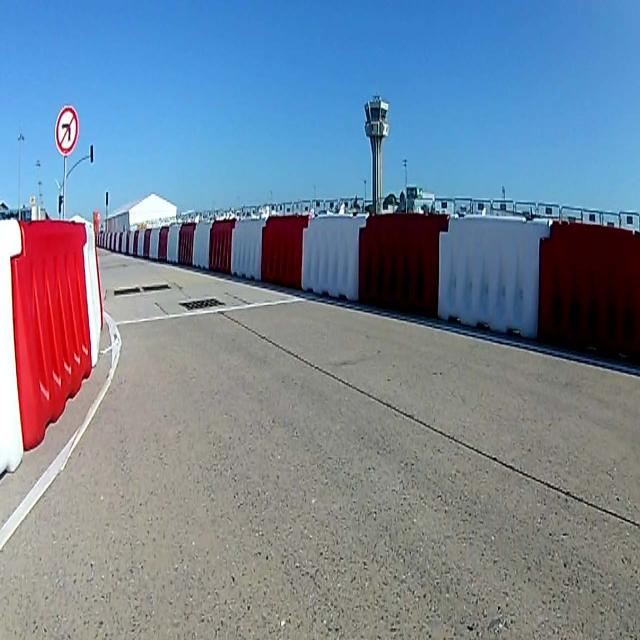soladonulmez: (56, 106, 78, 153)
